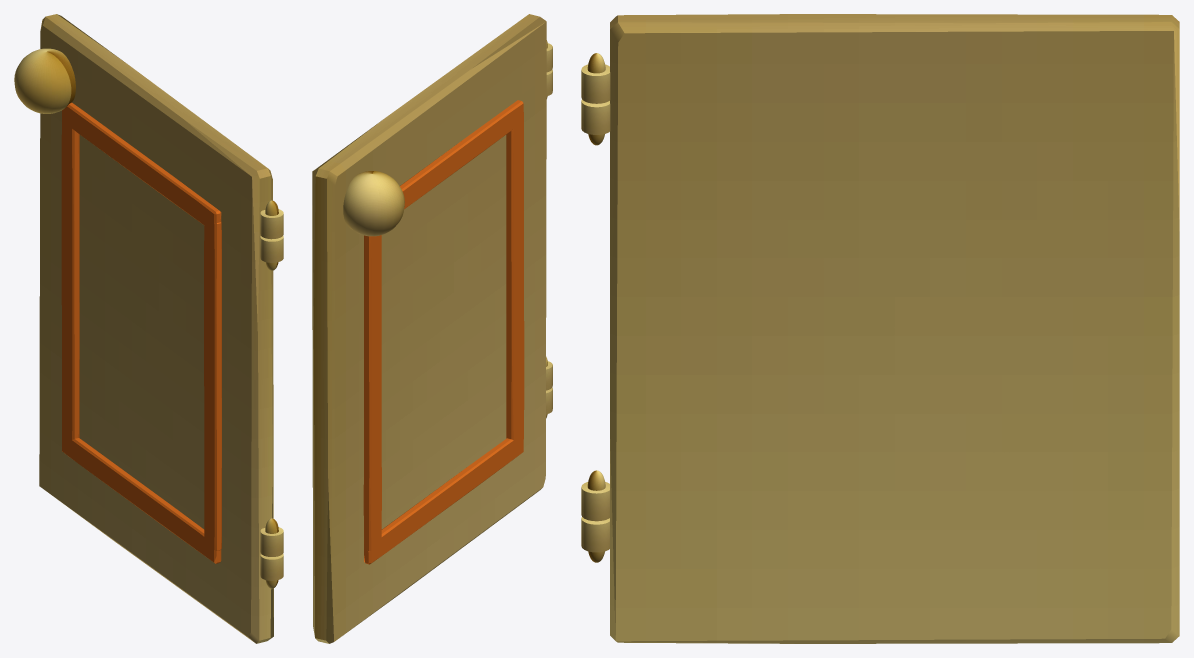
Rendered from gabinete3.obj.
3 views of the same model, side by side, from view 1: azimuth 30°, elevation 25°; view 2: azimuth 150°, elevation 25°; view 3: azimuth 270°, elevation 25° (orthographic). The views are drawn at different scales.
Visible parts, largest first — view 1: cuarto:cuarto:polySurface11582; view 2: cuarto:cuarto:polySurface11582; view 3: cuarto:cuarto:polySurface11582.
Boxes of the visible parts, x1,y1,x2,y2 form: cuarto:cuarto:polySurface11582: (14, 14, 283, 643); cuarto:cuarto:polySurface11582: (312, 14, 552, 643); cuarto:cuarto:polySurface11582: (581, 14, 1179, 643).
Bounding box in the file's own units: 0.1729 × 1.17 × 1.02.
Materials: 3 (3 with a texture image).
